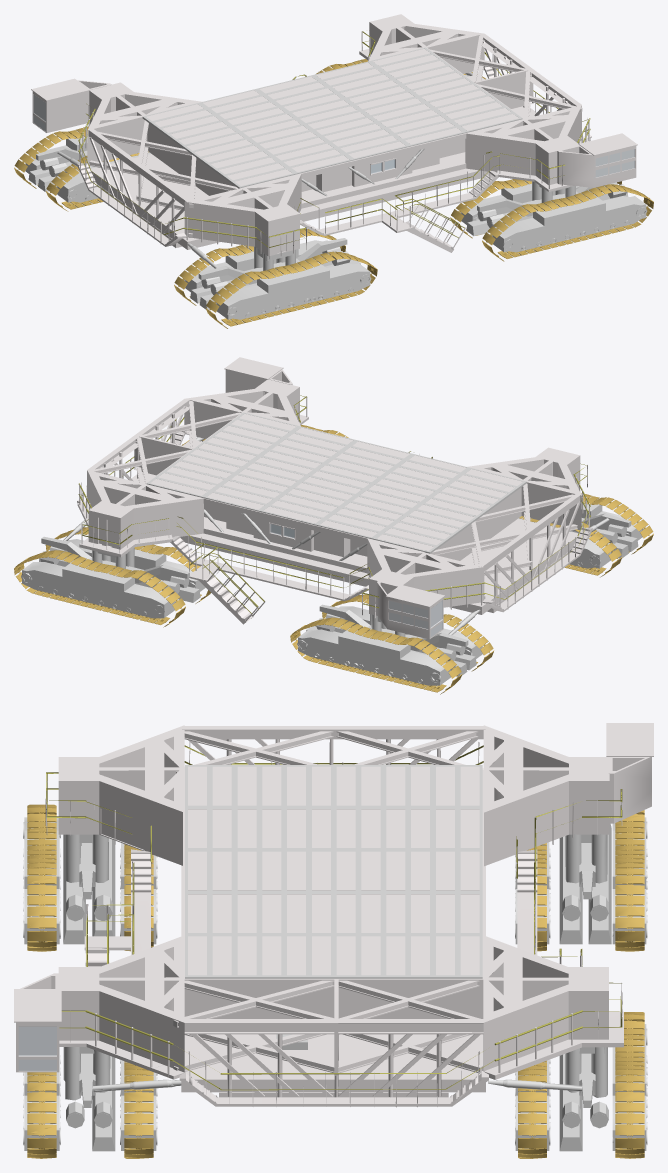
File: crawler.glb
3 renders of one model, top to bottom at view 1: azimuth 30°, elevation 25°; view 2: azimuth 150°, elevation 25°; view 3: azimuth 270°, elevation 25°, orthographic. The views are drawn at different scales.
Visible parts, largest first — view 1: polySurface1; view 2: polySurface1; view 3: polySurface1.
Boxes of the visible parts, x1,y1,x2,y2 form: polySurface1: (14, 14, 653, 328); polySurface1: (14, 357, 653, 694); polySurface1: (14, 723, 653, 1158).
Bounding box in the file's own units: 8.77 × 1.7 × 7.2.
2 materials, 2 textured.
